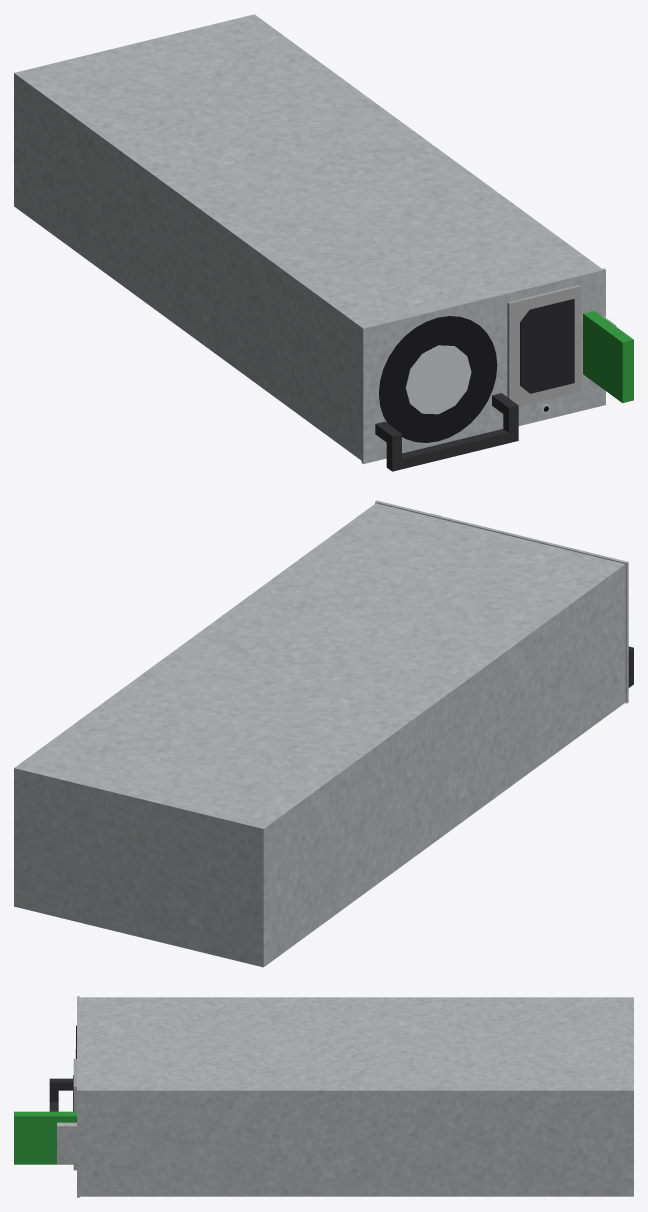
The model's file is FXX750PCRPS.far.glb.
3 views of the same model, one above another, from view 1: azimuth 30°, elevation 25°; view 2: azimuth 150°, elevation 25°; view 3: azimuth 270°, elevation 25° (orthographic). The views are drawn at different scales.
Visible parts, largest first — view 1: PSU_far; view 2: PSU_far; view 3: PSU_far.
Boxes of the visible parts, <box> form: PSU_far: <box>14,14,633,471</box>; PSU_far: <box>14,500,633,967</box>; PSU_far: <box>14,996,633,1197</box>.
Bounding box in the file's own units: 0.074 × 0.0395 × 0.2062.
Materials: 3 (2 with a texture image).
